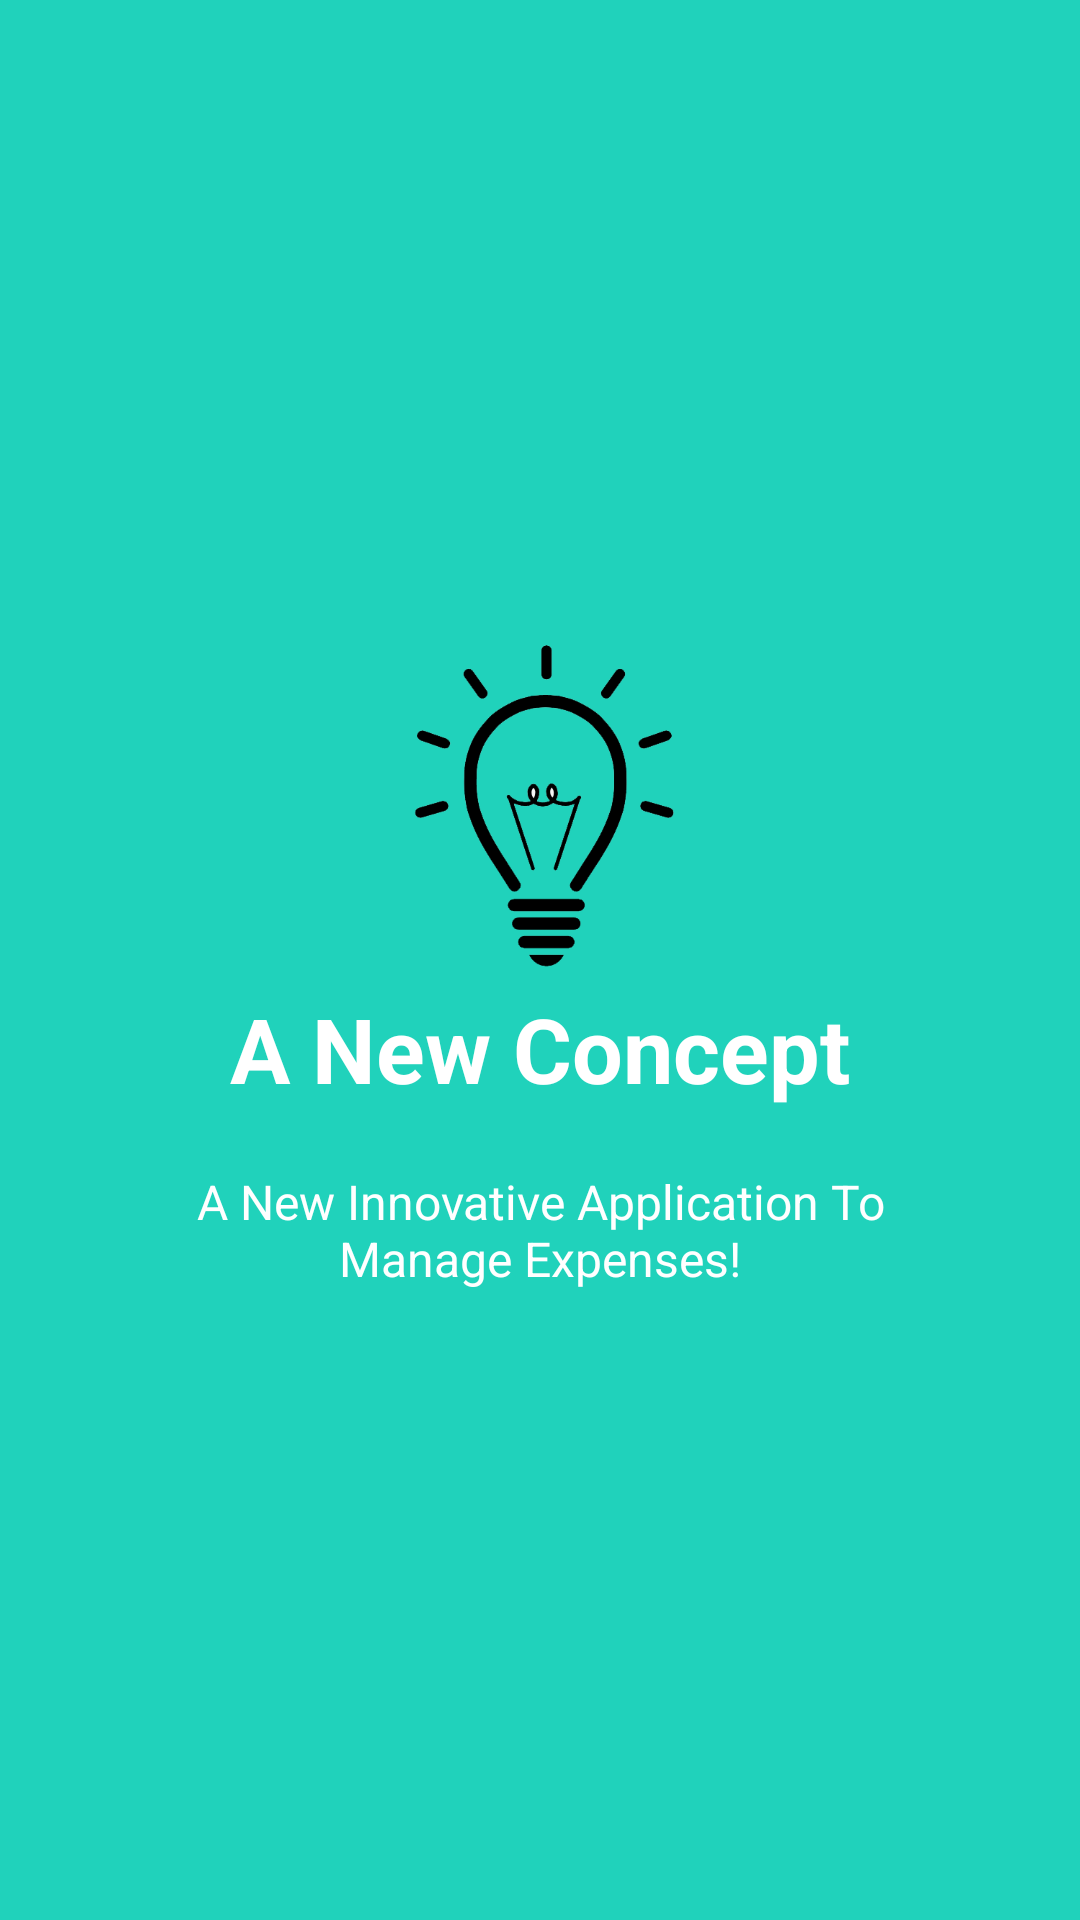

Icons on this 1080x1920 Android screen, each with its box as (x1, y1, x2, y2):
idea: (415, 645, 674, 967)
